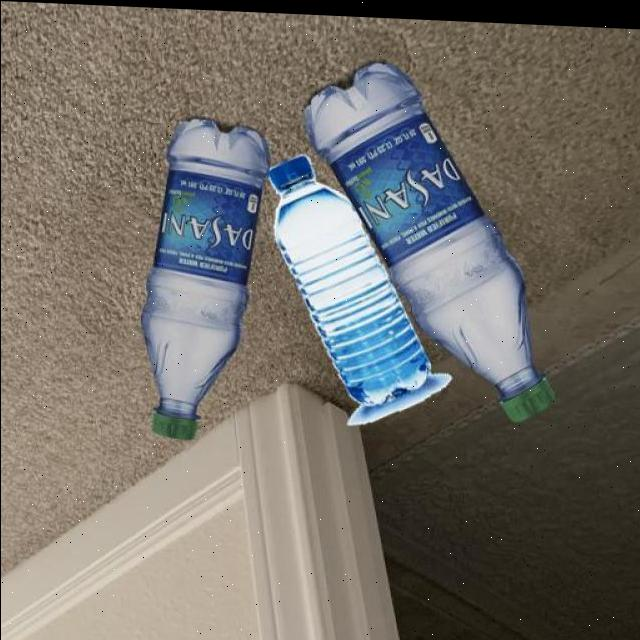bottle: (302, 54, 556, 421), (266, 149, 452, 427), (140, 113, 271, 443)
